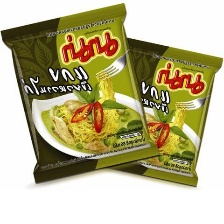snack: (0, 0, 165, 190), (86, 30, 223, 192)
